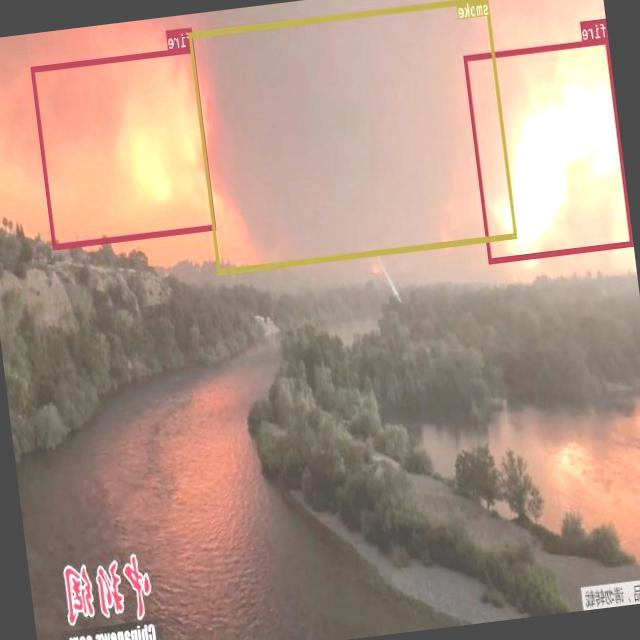fire: (464, 38, 633, 262), (32, 45, 216, 248)
smoke: (189, 0, 517, 273)
